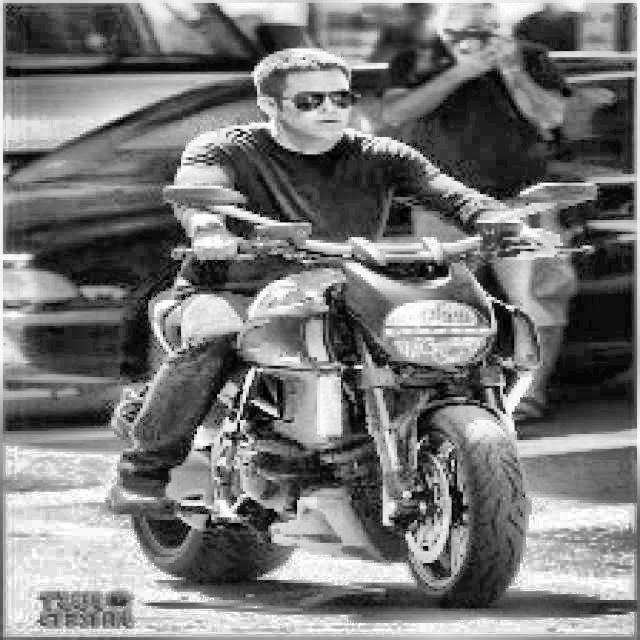motorcycle: (123, 162, 561, 604)
